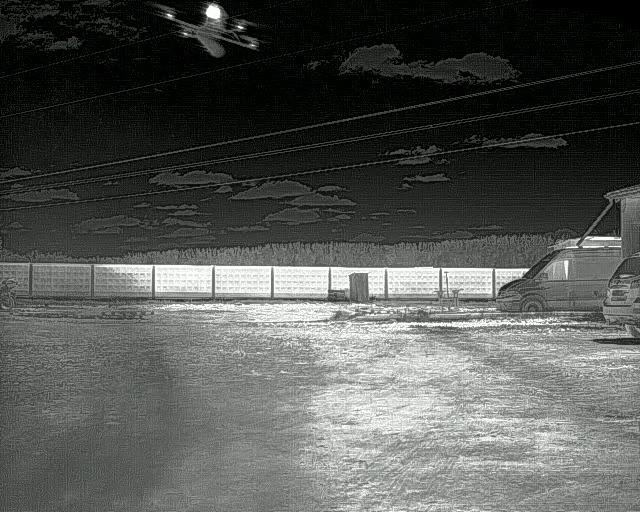drone-thermal: (159, 0, 267, 59)
